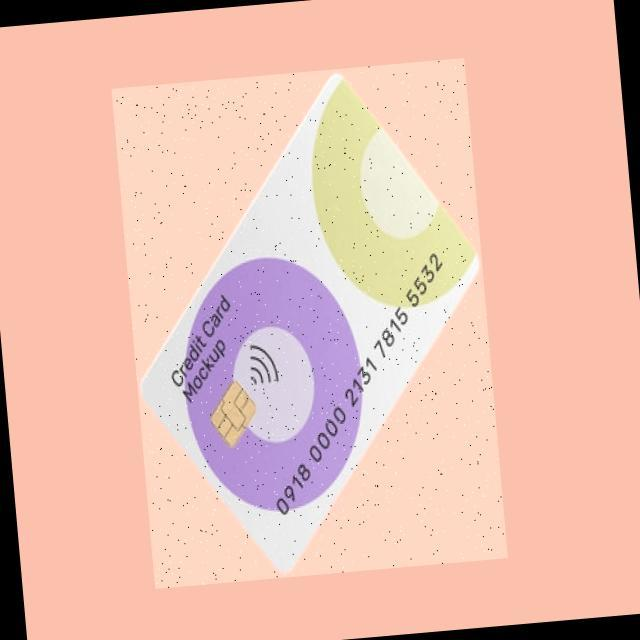payment_card: (138, 73, 480, 587)
